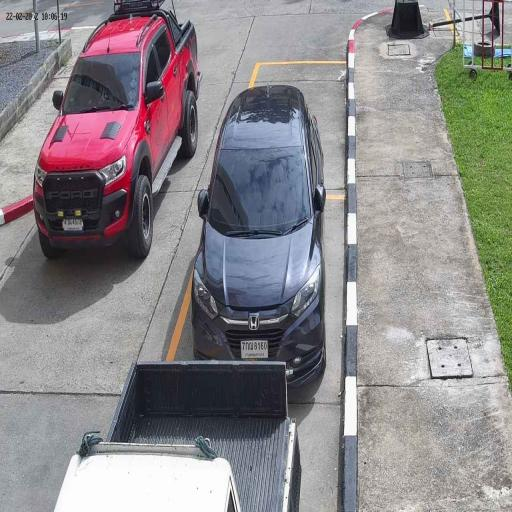car: (33, 0, 204, 256), (191, 85, 327, 389), (54, 360, 300, 512)
